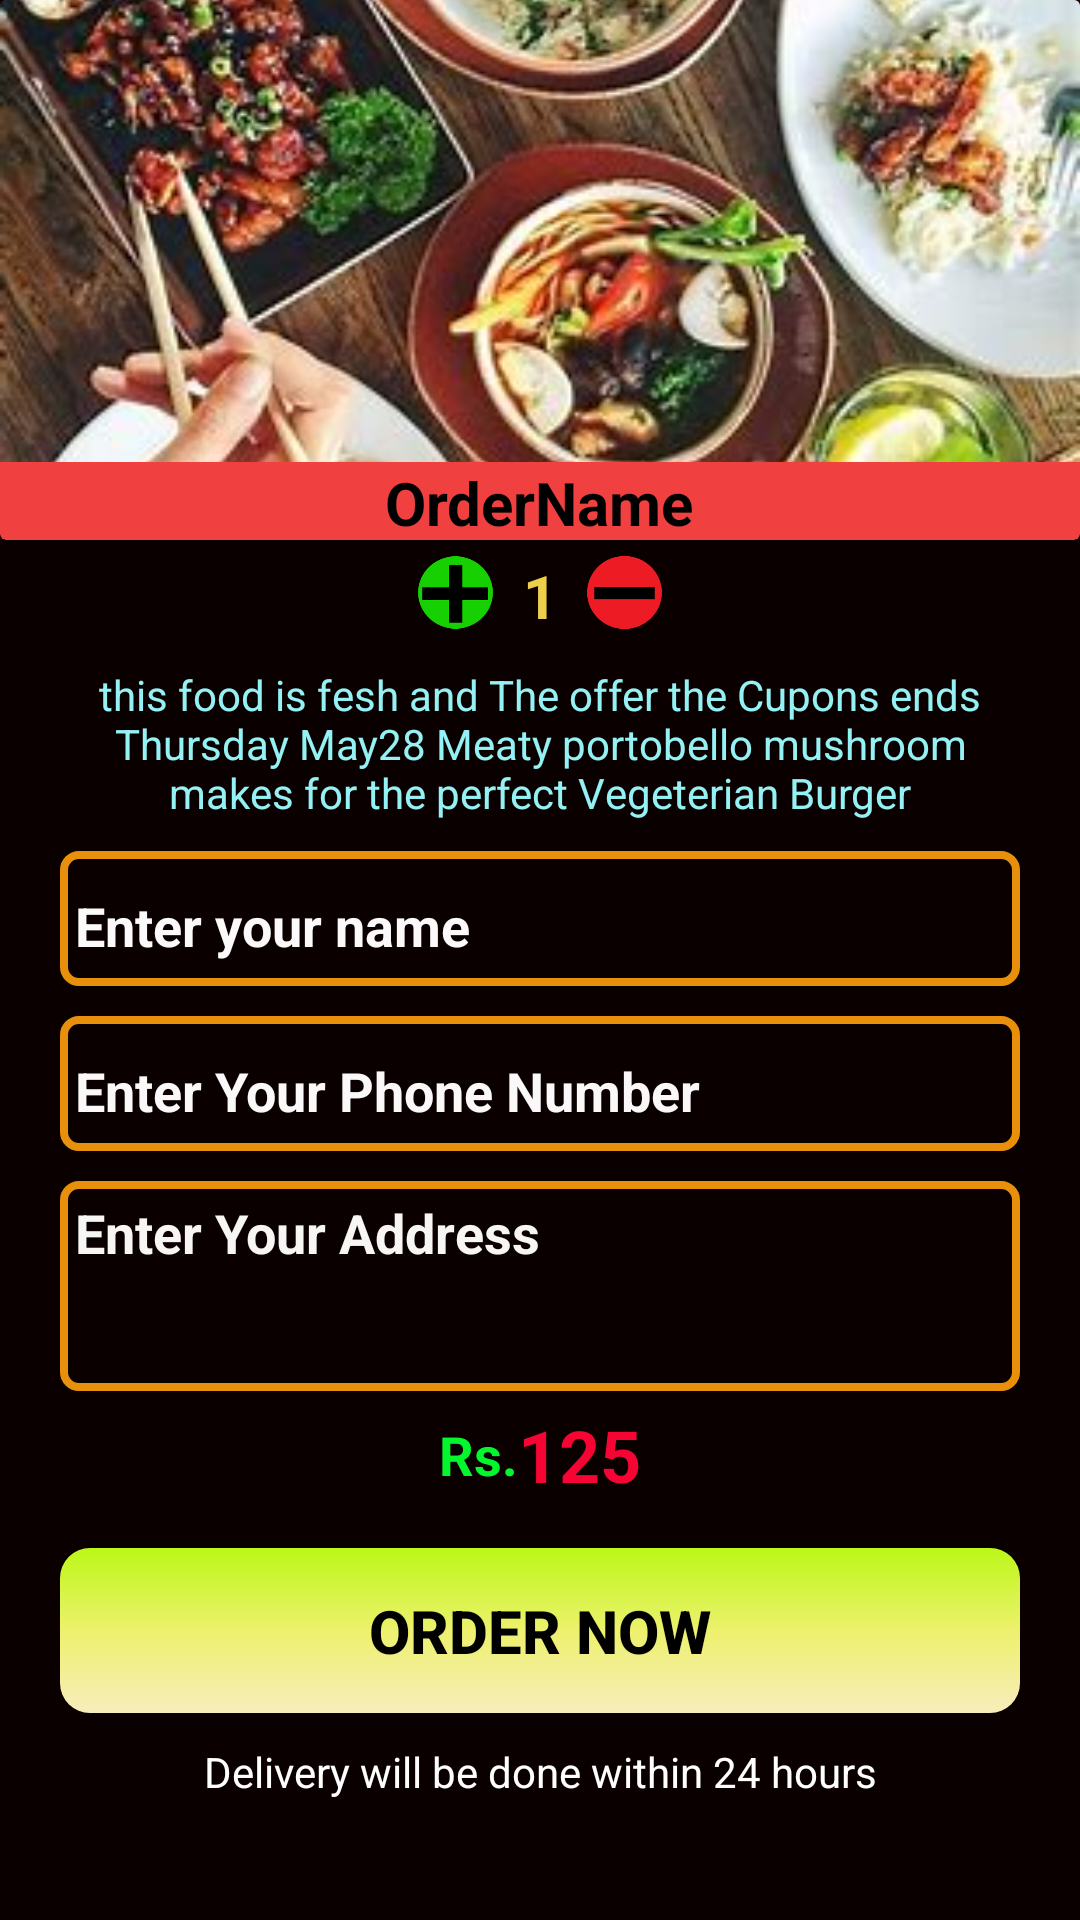

Point at icon controls on the screen. Image size 1080 × 1920, points as [x,y].
addplus: [455,592]
substractminus: [624,592]
